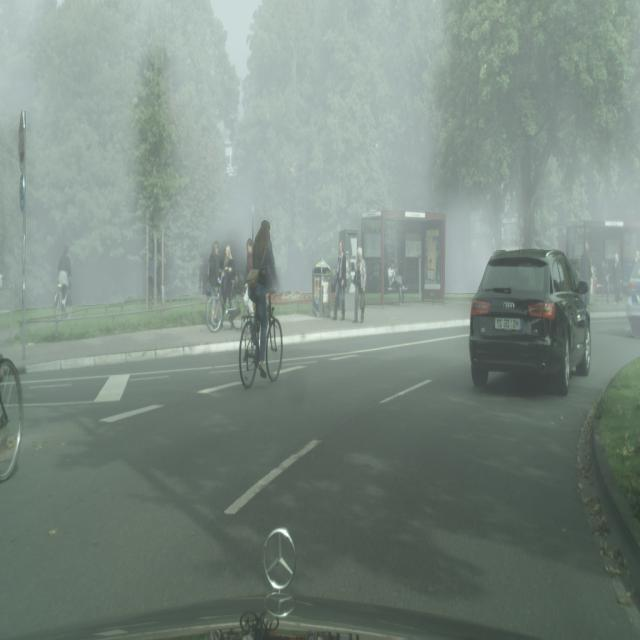car: (238, 291, 283, 389), (0, 352, 23, 482), (205, 278, 242, 332)
person: (247, 219, 279, 367), (332, 240, 348, 320), (207, 241, 222, 319), (352, 246, 367, 322), (222, 244, 235, 316), (579, 241, 593, 304), (388, 262, 407, 306), (612, 251, 622, 305)
truck: (469, 246, 592, 395), (626, 253, 640, 336)
